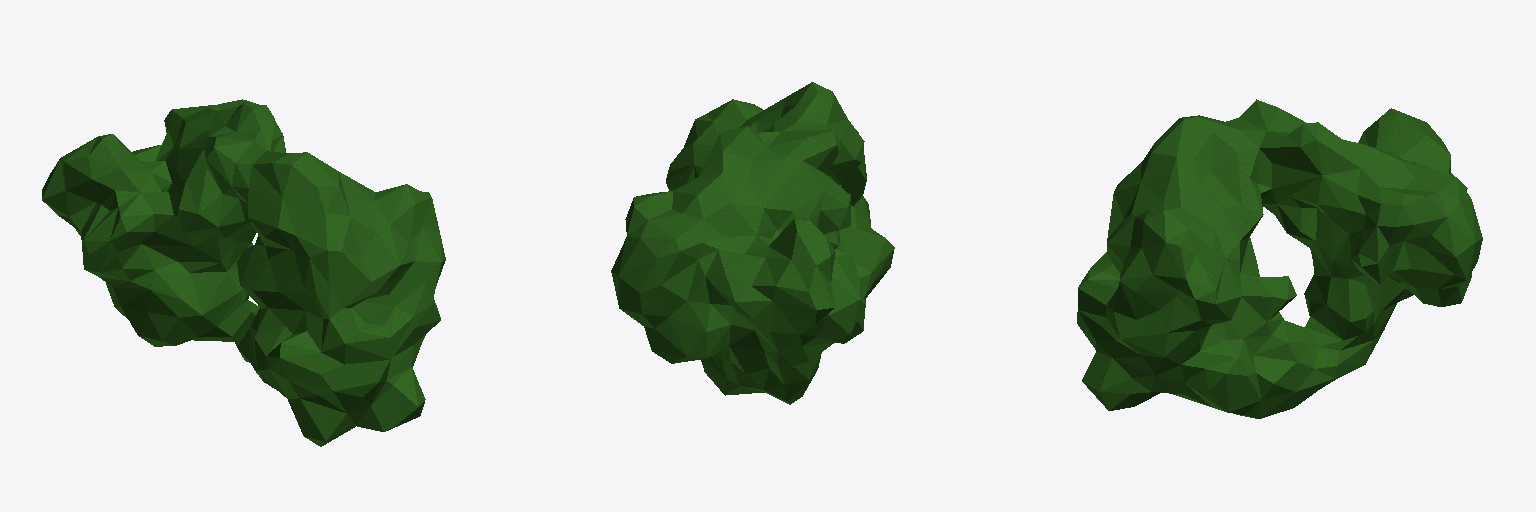
The picture shows the model from 3 angles: view 1: azimuth 30°, elevation 25°; view 2: azimuth 150°, elevation 25°; view 3: azimuth 270°, elevation 25°; orthographic projection.
Parts seen in each view (by area): view 1: Low_res_MUC.1; view 2: Low_res_MUC.1; view 3: Low_res_MUC.1.
Part boxes in pixels (x1,y1,x2,y2): Low_res_MUC.1: (42, 99, 445, 446); Low_res_MUC.1: (611, 82, 894, 404); Low_res_MUC.1: (1077, 99, 1482, 418).
Bounding box in the file's own units: 5.57 × 5.22 × 6.96.
1 materials, 1 textured.